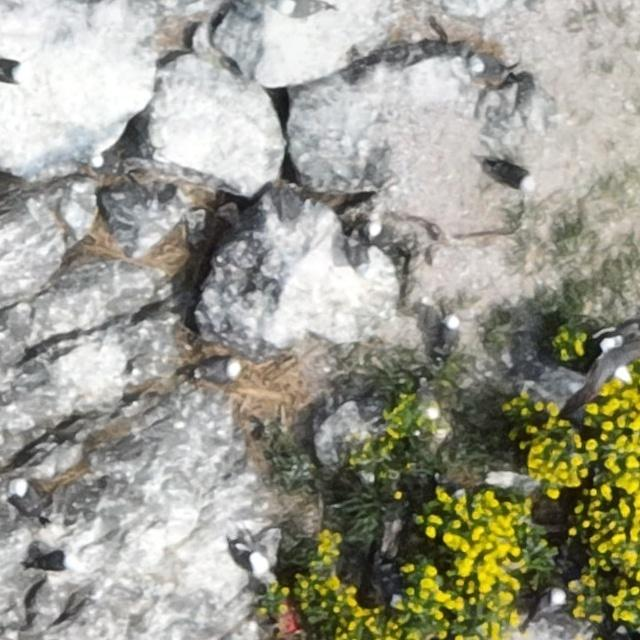F: (574, 328, 640, 407)
umineko: (366, 222, 409, 260), (9, 479, 46, 521), (236, 544, 272, 577), (90, 153, 133, 180), (490, 163, 531, 186), (277, 1, 337, 16), (530, 591, 564, 617), (200, 361, 241, 382), (1, 58, 29, 87), (469, 60, 508, 80), (32, 553, 70, 570), (442, 314, 457, 344)
